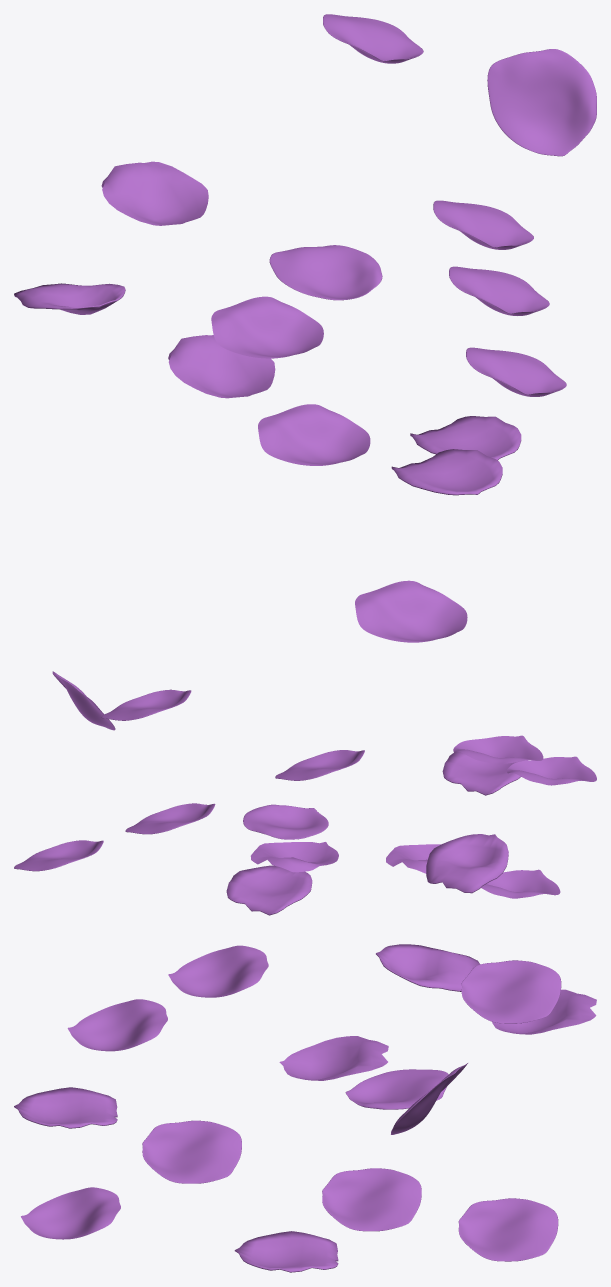
The model's file is petal.glb.
3 views of the same model, one above another, from view 1: azimuth 30°, elevation 25°; view 2: azimuth 150°, elevation 25°; view 3: azimuth 270°, elevation 25° (orthographic). The views are drawn at different scales.
Visible parts, largest first — view 1: petal8, petal6.002, petal6, petal6.001, petal5, petal7, petal5.001, petal1, petal1.001, petal4.002, petal4.004, petal4 (+2 smaller); view 2: petal3, petal1.001, petal7, petal1, petal5, petal6.002, petal6, petal6.001, petal4.004, petal4, petal4.002, petal4.001 (+2 smaller); view 3: petal4.004, petal4.002, petal4, petal4.001, petal6, petal6.002, petal6.001, petal5.001, petal1.001, petal1, petal3, petal7 (+2 smaller).
Part boxes in pixels (x1=…): petal8: x1=487, y1=49, x2=596, y2=156; petal6.002: x1=211, y1=296, x2=323, y2=358; petal6: x1=258, y1=404, x2=370, y2=465; petal6.001: x1=355, y1=580, x2=467, y2=642; petal5: x1=101, y1=161, x2=208, y2=225; petal7: x1=269, y1=245, x2=382, y2=300; petal5.001: x1=168, y1=335, x2=275, y2=398; petal1: x1=391, y1=449, x2=502, y2=495; petal1.001: x1=410, y1=416, x2=521, y2=460; petal4.002: x1=323, y1=14, x2=423, y2=63; petal4.004: x1=433, y1=200, x2=533, y2=249; petal4: x1=449, y1=266, x2=549, y2=315; petal3: x1=426, y1=834, x2=508, y2=893; petal1.001: x1=226, y1=865, x2=312, y2=915; petal7: x1=243, y1=804, x2=328, y2=839; petal1: x1=442, y1=752, x2=527, y2=795; petal5: x1=250, y1=842, x2=338, y2=872; petal6.002: x1=453, y1=735, x2=543, y2=764; petal6: x1=506, y1=756, x2=596, y2=785; petal6.001: x1=481, y1=869, x2=560, y2=898; petal4.004: x1=14, y1=840, x2=103, y2=871; petal4: x1=125, y1=803, x2=215, y2=834; petal4.002: x1=101, y1=689, x2=191, y2=720; petal4.001: x1=275, y1=750, x2=364, y2=780; petal4.004: x1=458, y1=1198, x2=558, y2=1261; petal4.002: x1=461, y1=960, x2=561, y2=1023; petal4: x1=322, y1=1168, x2=421, y2=1231; petal4.001: x1=142, y1=1120, x2=241, y2=1183; petal6: x1=67, y1=999, x2=167, y2=1051; petal6.002: x1=168, y1=945, x2=268, y2=997; petal6.001: x1=21, y1=1187, x2=120, y2=1239; petal5.001: x1=279, y1=1036, x2=388, y2=1080; petal1.001: x1=234, y1=1231, x2=338, y2=1272; petal1: x1=14, y1=1087, x2=117, y2=1128; petal3: x1=376, y1=944, x2=480, y2=991; petal7: x1=345, y1=1069, x2=448, y2=1109.
Bounding box in the file's own units: 10.4 × 6.79 × 10.51.
